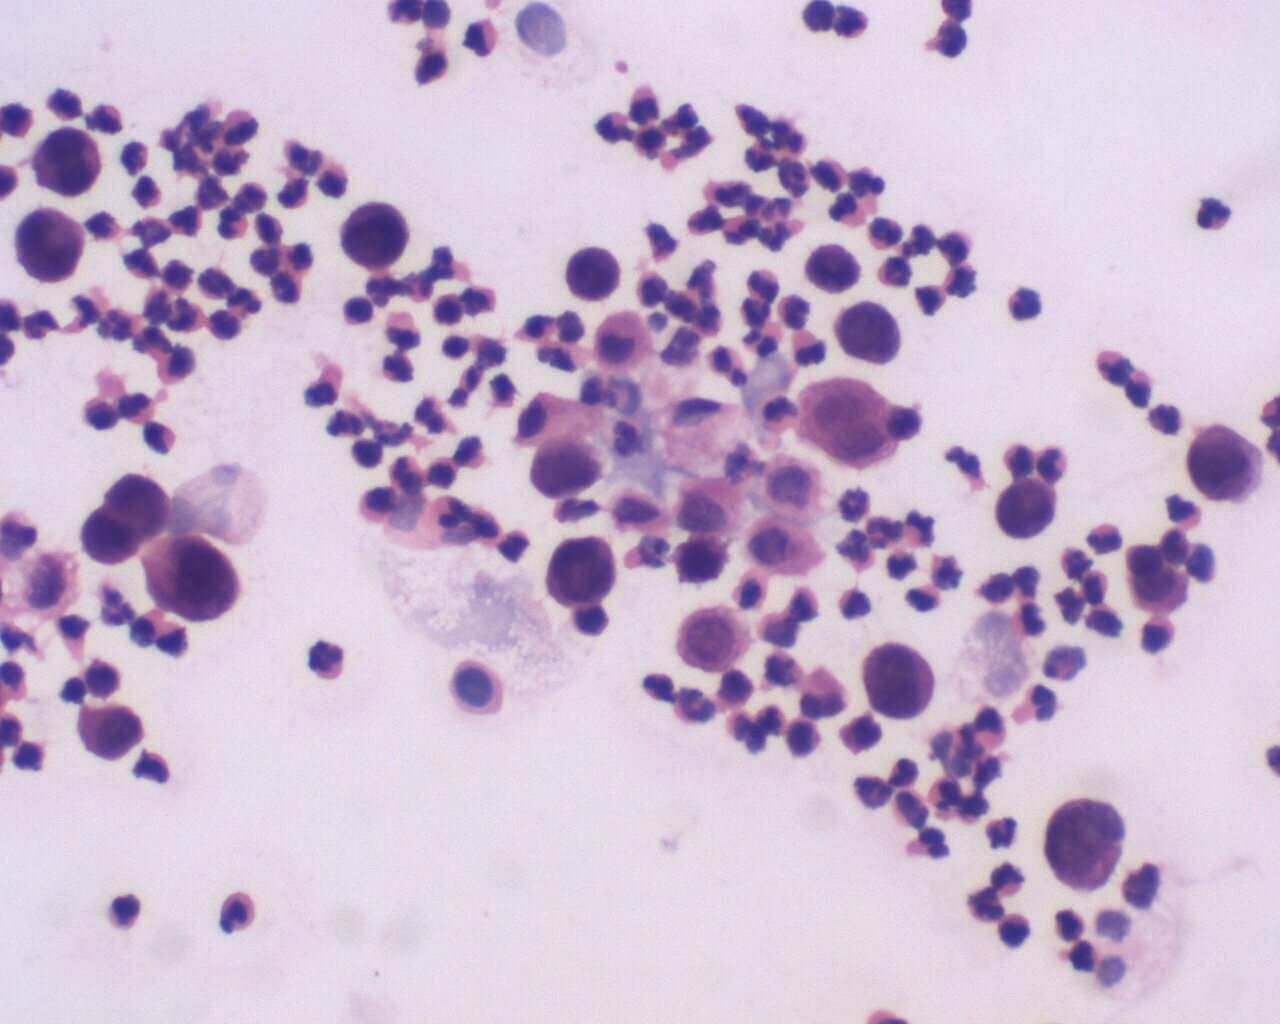ab: (141, 533, 243, 629), (75, 469, 170, 568), (1040, 788, 1121, 897), (1188, 417, 1269, 508), (14, 206, 95, 289), (859, 638, 939, 722), (540, 533, 620, 614), (32, 125, 113, 204), (673, 602, 759, 675), (833, 293, 907, 368), (338, 199, 412, 271), (560, 242, 628, 309), (994, 478, 1061, 544), (80, 699, 143, 767)
lymph: (339, 293, 377, 327)
meso: (591, 305, 656, 377)
neutro: (673, 677, 721, 729), (305, 635, 351, 688), (787, 324, 830, 372), (217, 890, 258, 940), (1085, 516, 1128, 562), (990, 860, 1032, 904), (1193, 190, 1233, 236), (874, 253, 920, 293), (591, 104, 634, 144), (1038, 439, 1073, 483), (985, 814, 1021, 853)
